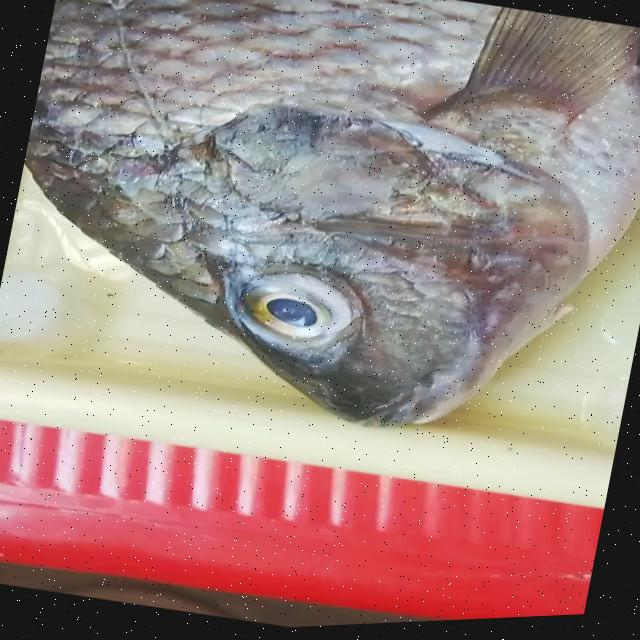Fresh: (206, 251, 378, 370)
